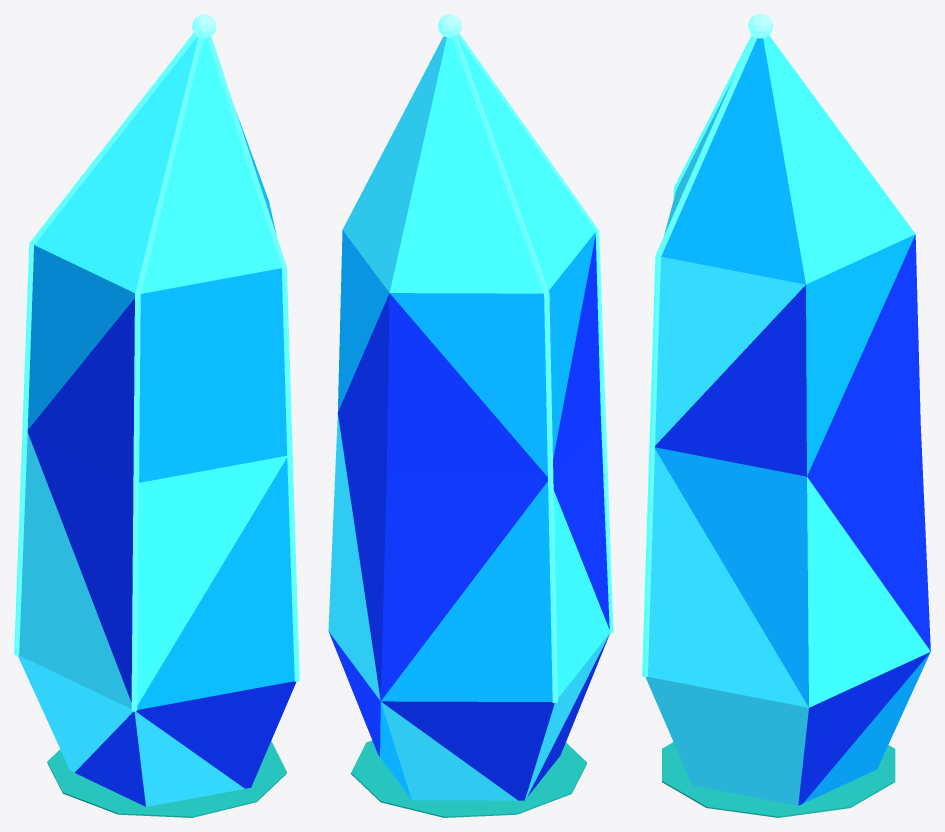
File: forest_crystal_blue.glb
The picture shows the model from 3 angles, left to right: view 1: azimuth 30°, elevation 25°; view 2: azimuth 150°, elevation 25°; view 3: azimuth 270°, elevation 25°; orthographic projection. The views are drawn at different scales.
Visible parts, largest first — view 1: Faceted magical crystal, Crystal ground reflection, Crystal sharp reflected edge.001, Crystal sharp reflected edge.002, Crystal sharp reflected edge; view 2: Faceted magical crystal, Crystal ground reflection, Crystal sharp reflected edge, Crystal sharp reflected edge.001; view 3: Faceted magical crystal, Crystal ground reflection, Crystal sharp reflected edge.002, Crystal sharp reflected edge.001.
Part boxes in pixels (box(x1,y1,x2,y2)): Faceted magical crystal: box(17, 36, 296, 806); Crystal ground reflection: box(47, 741, 286, 817); Crystal sharp reflected edge.001: box(131, 36, 203, 711); Crystal sharp reflected edge.002: box(206, 36, 299, 681); Crystal sharp reflected edge: box(14, 33, 196, 655); Faceted magical crystal: box(328, 36, 609, 800); Crystal ground reflection: box(351, 740, 586, 817); Crystal sharp reflected edge: box(452, 35, 557, 703); Crystal sharp reflected edge.001: box(457, 33, 613, 633); Faceted magical crystal: box(645, 35, 930, 805); Crystal ground reflection: box(662, 742, 895, 817); Crystal sharp reflected edge.002: box(642, 35, 756, 677); Crystal sharp reflected edge.001: box(673, 35, 752, 198).
Size of the model in its own units: 0.5721 by 1.66 by 0.5651.
